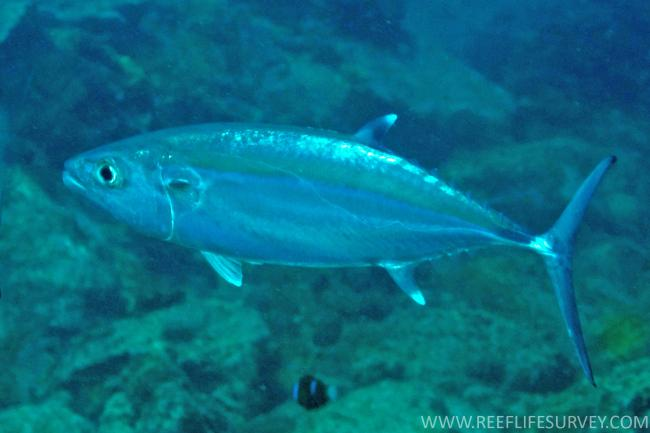fish: (61, 112, 617, 388)
